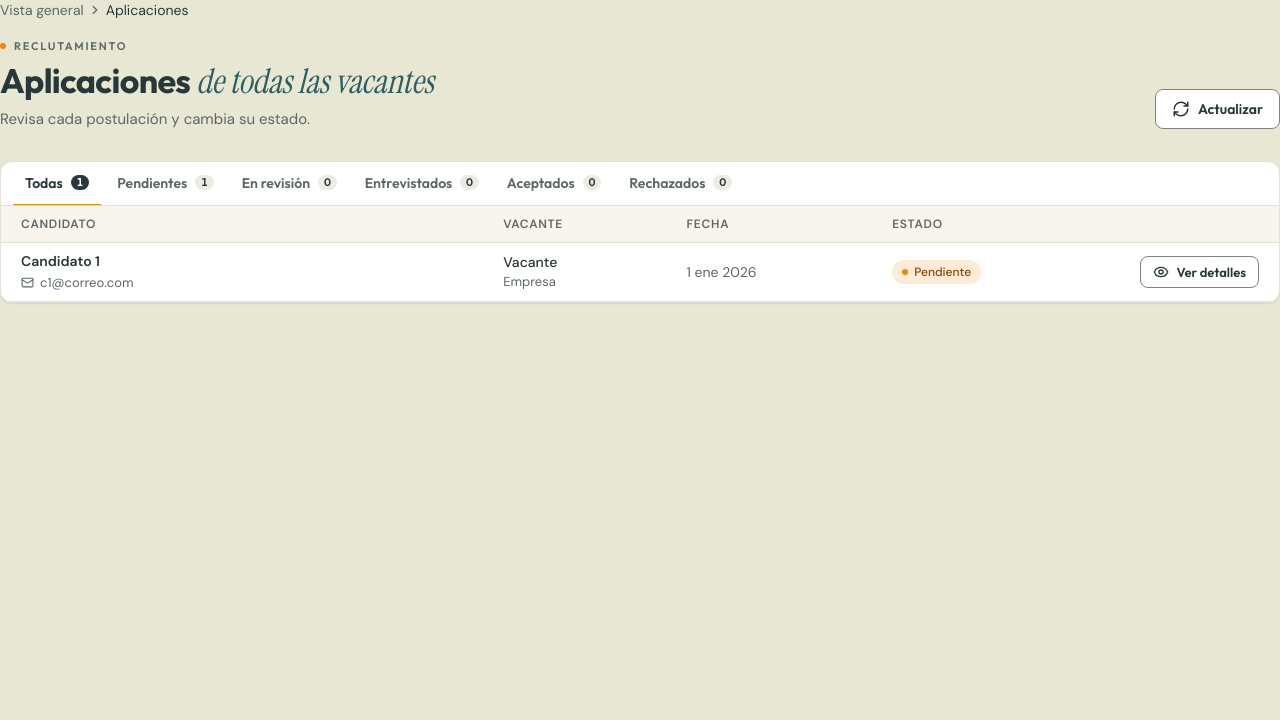
Test case: /applications — enlace al CV (VAC-014) › pide la lista a GET /api/applications, sin parámetros
Click the button "Ver detalles" at (1199, 272), box [1140, 256, 1259, 288]
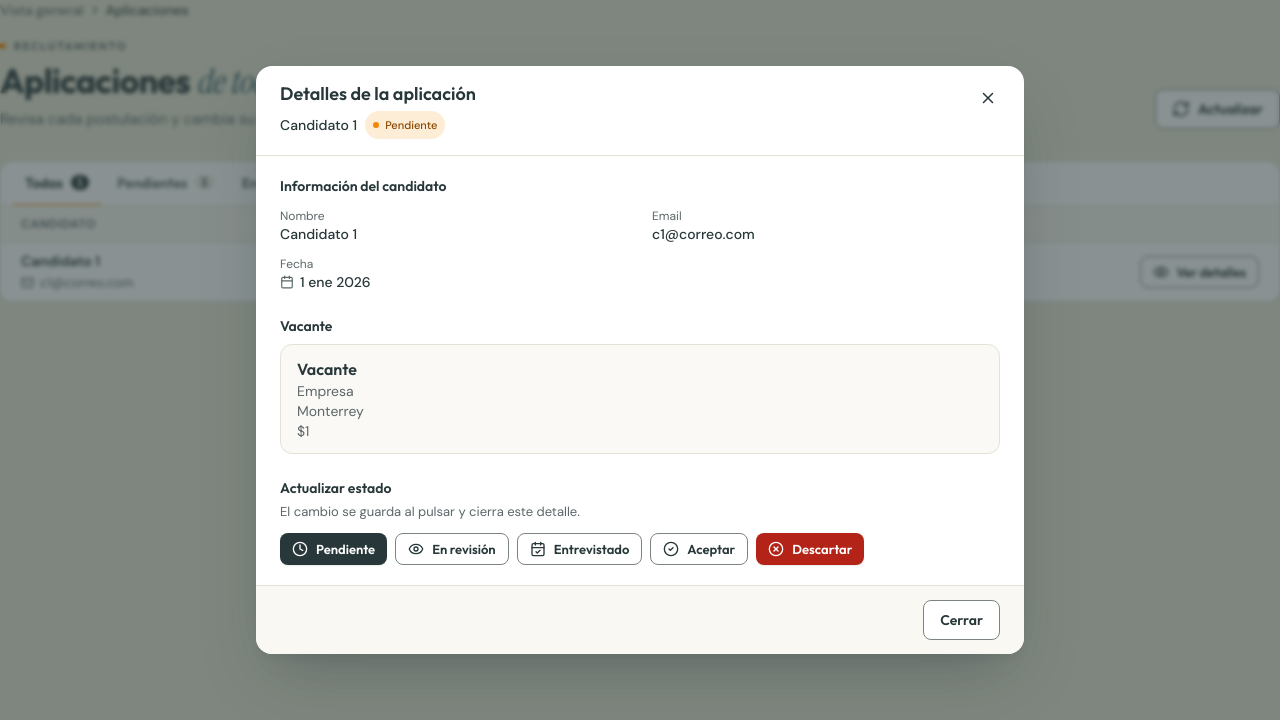
Check: the dialog is shown, box [256, 66, 1024, 654]
